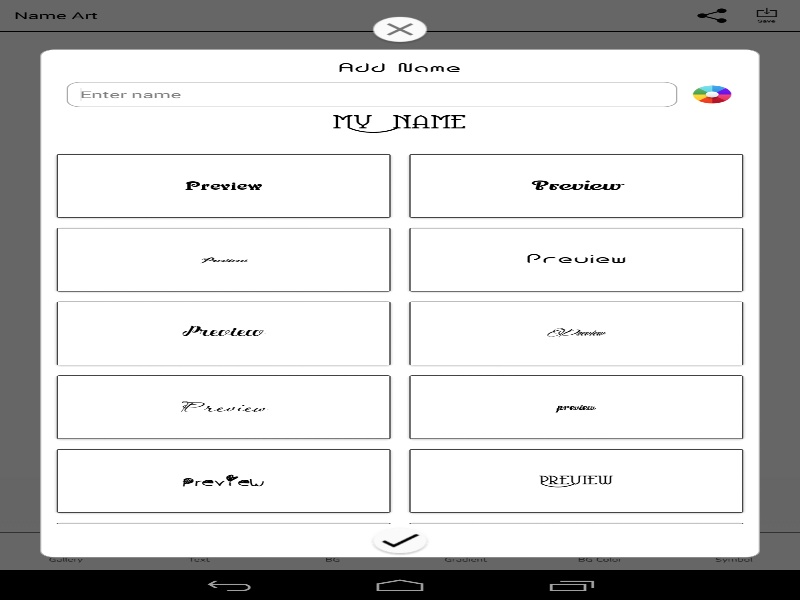Input: (66, 81, 677, 107)
